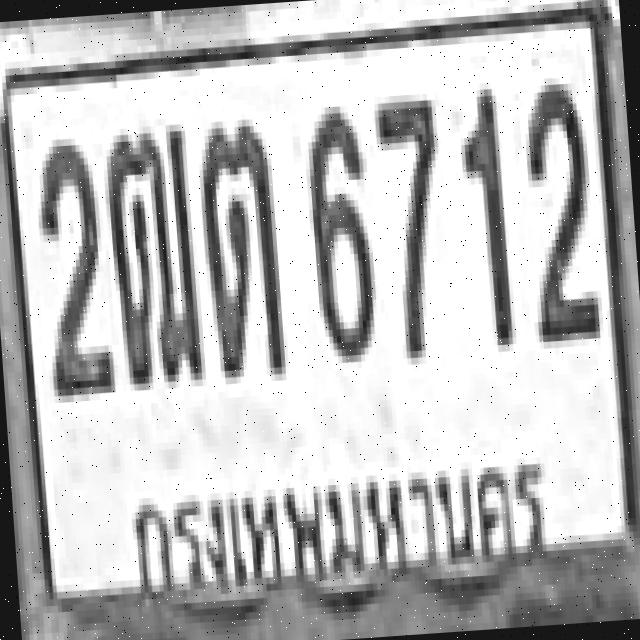1: (457, 81, 512, 346)
2: (517, 76, 596, 336), (32, 133, 111, 393)
27ThorPhuThao: (100, 120, 202, 388)
30TorTao: (194, 114, 284, 374)
6: (301, 98, 376, 357)
7: (369, 90, 448, 356)
Bangkok: (110, 435, 562, 622)
